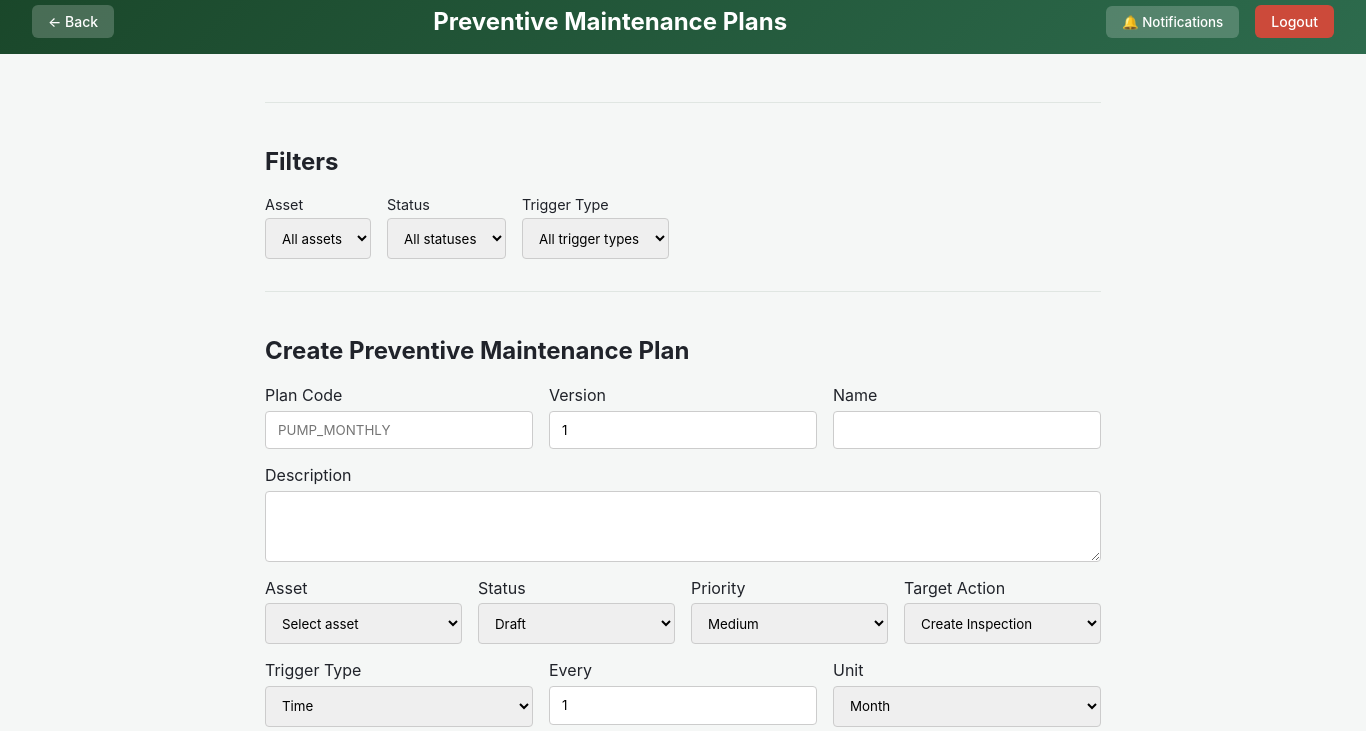
Test: PreventiveMaintenancePlansPage › rejects invalid plan code before submit
The width and height of the screenshot is (1366, 731).
In the field labelled "Plan Code": (399, 430) [265,411,533,449], type "1INVALID"
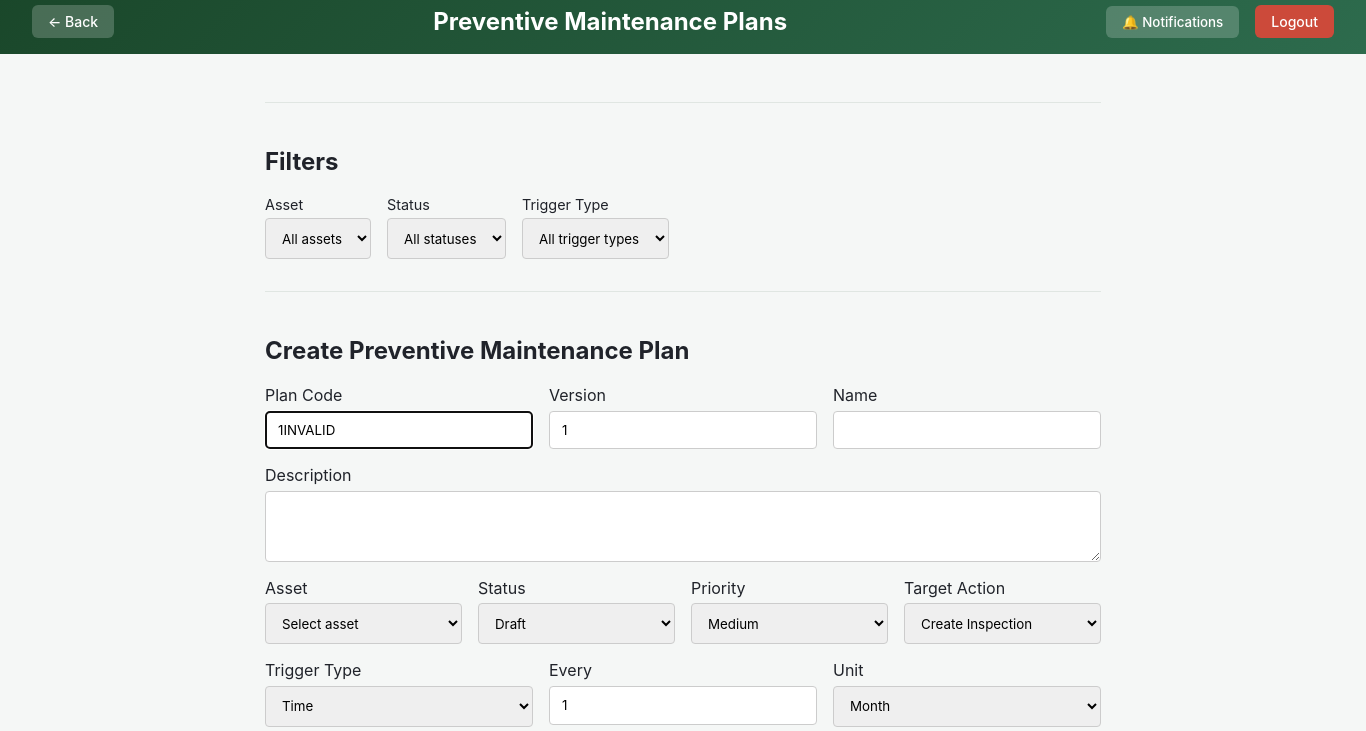
In the field labelled "Name": (967, 430) [833,411,1101,449], type "Invalid Plan"
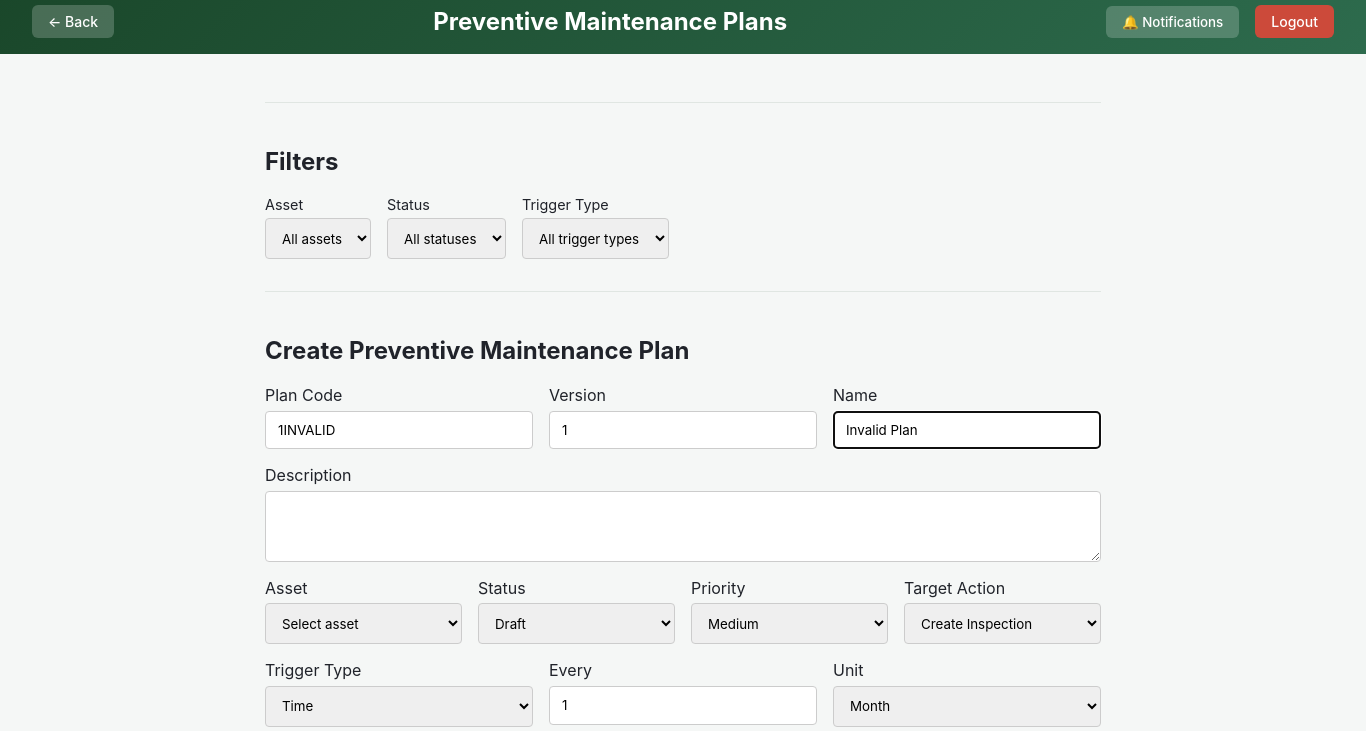
Select "Pump A" in the dropdown labelled "Asset" below "Description": (364, 624) [265,603,462,644]
(page scrolled)
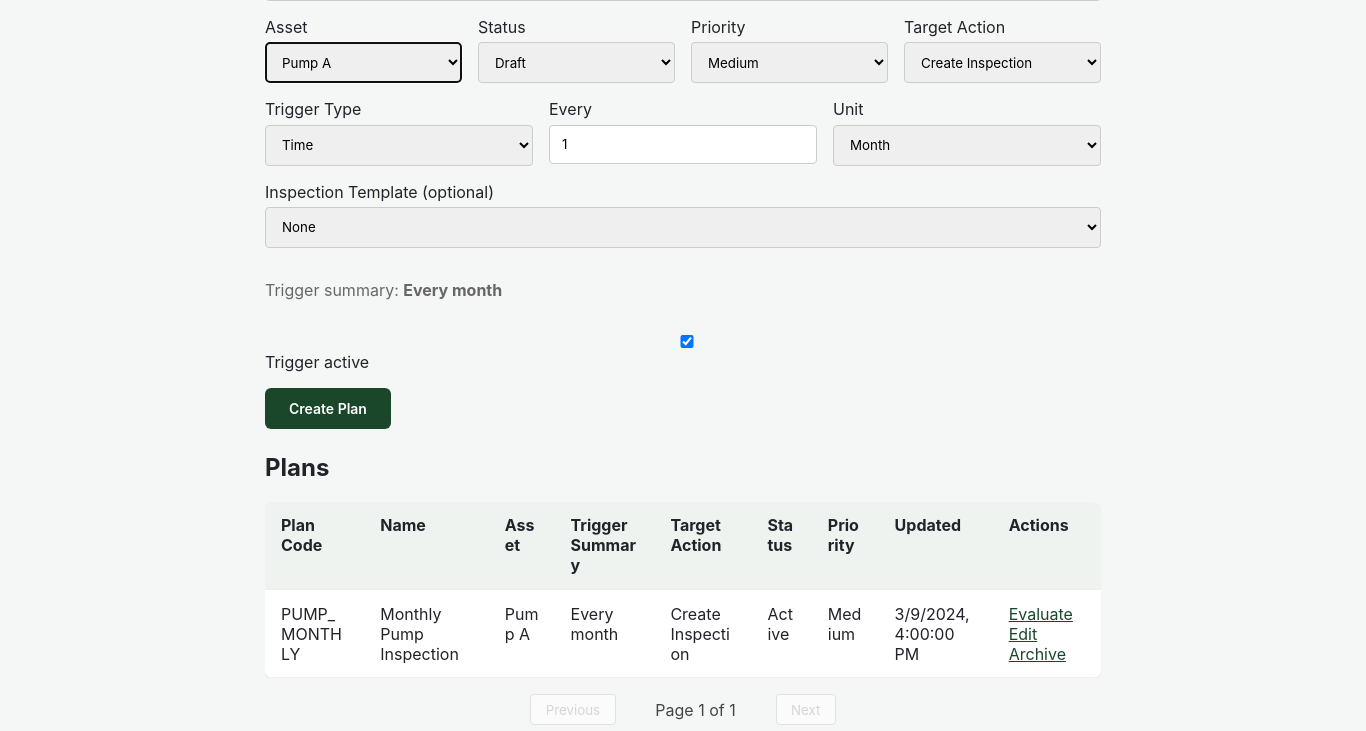
Click the button "Create Plan": (328, 408) [265,388,391,429]
(page scrolled)
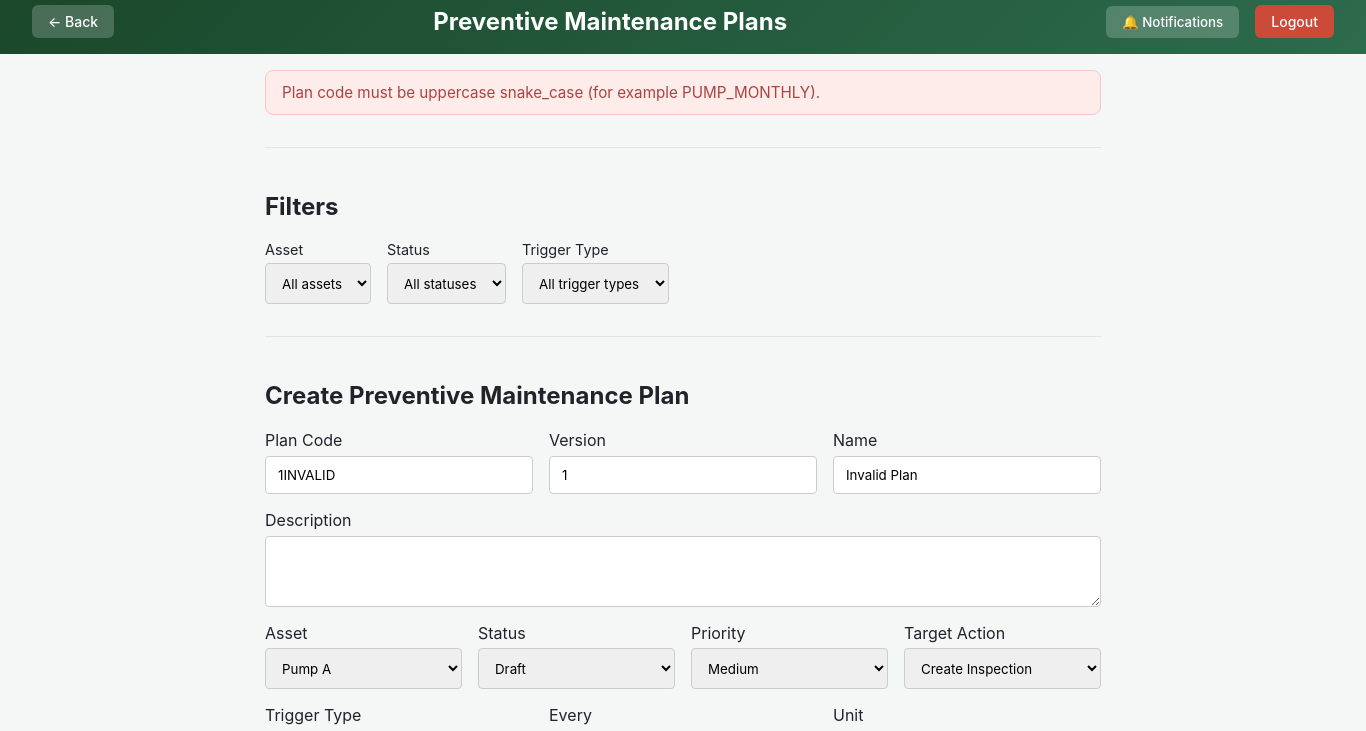
Result: the text "Plan code must be uppercase snake_case (for example PUMP_MONTHLY)." is shown at [265,70,1101,115]
